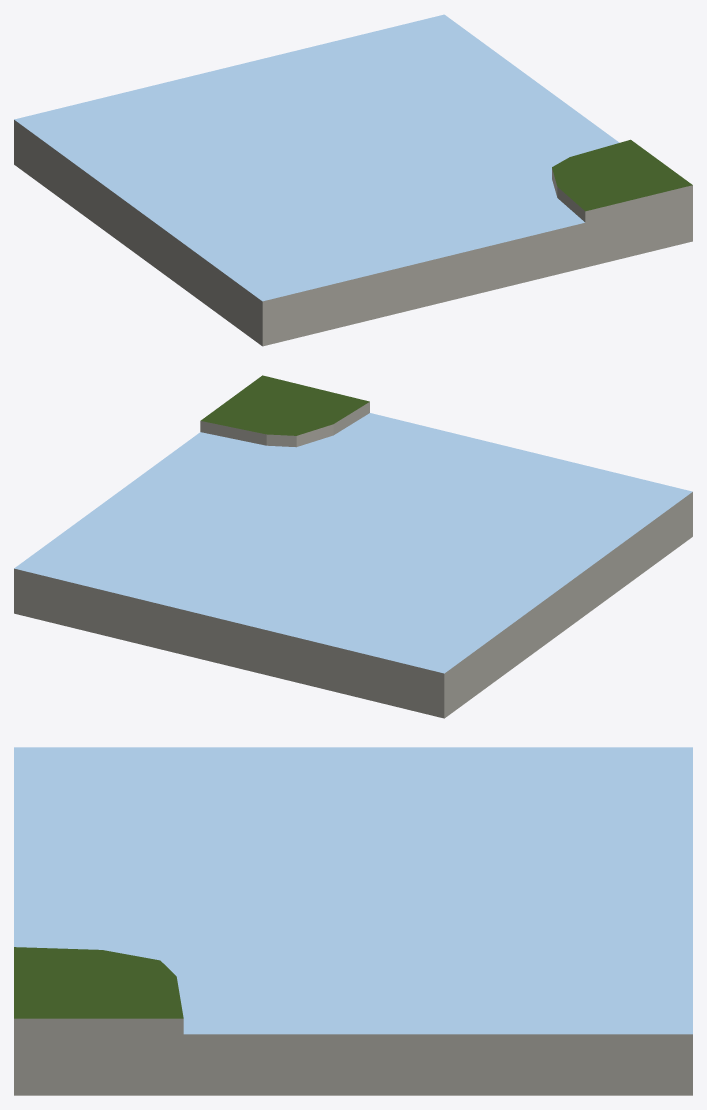
Rendered from Terrain_Tile_Grass_Rock_Water_Bank_Corner_06.fbx.
The picture shows the model from 3 angles, top to bottom: view 1: azimuth 30°, elevation 25°; view 2: azimuth 150°, elevation 25°; view 3: azimuth 270°, elevation 25°; orthographic projection. The views are drawn at different scales.
Parts seen in each view (by area): view 1: Terrain_Tile_Grass_Rock_Water_Bank_Corner_06; view 2: Terrain_Tile_Grass_Rock_Water_Bank_Corner_06; view 3: Terrain_Tile_Grass_Rock_Water_Bank_Corner_06.
Part boxes in pixels (bbox=[...]): Terrain_Tile_Grass_Rock_Water_Bank_Corner_06: bbox=[14, 14, 692, 346]; Terrain_Tile_Grass_Rock_Water_Bank_Corner_06: bbox=[14, 375, 692, 718]; Terrain_Tile_Grass_Rock_Water_Bank_Corner_06: bbox=[14, 747, 692, 1095].
Size of the model in its own units: 126 by 15.75 by 126.
